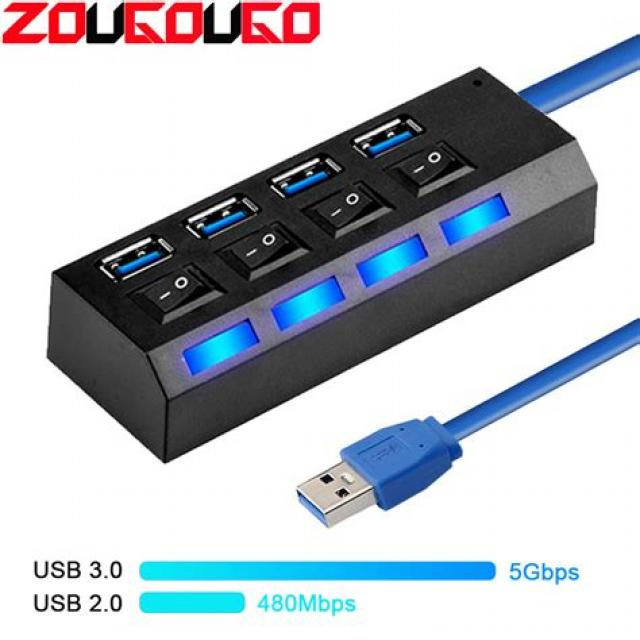usb port: (343, 115, 419, 148), (96, 235, 167, 270), (184, 199, 256, 228), (266, 159, 336, 185)
